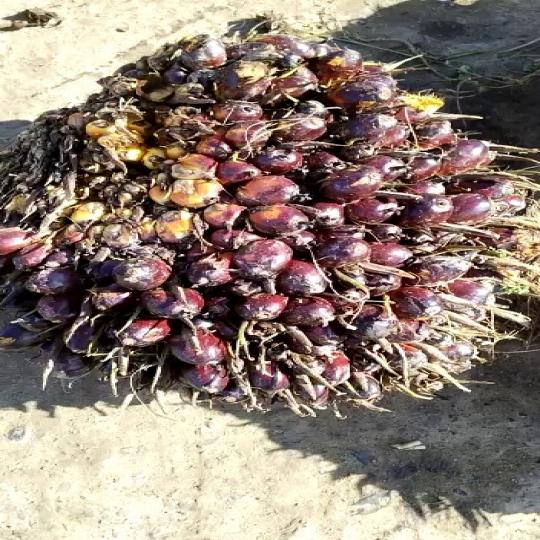kurang masak: (7, 19, 540, 401)
